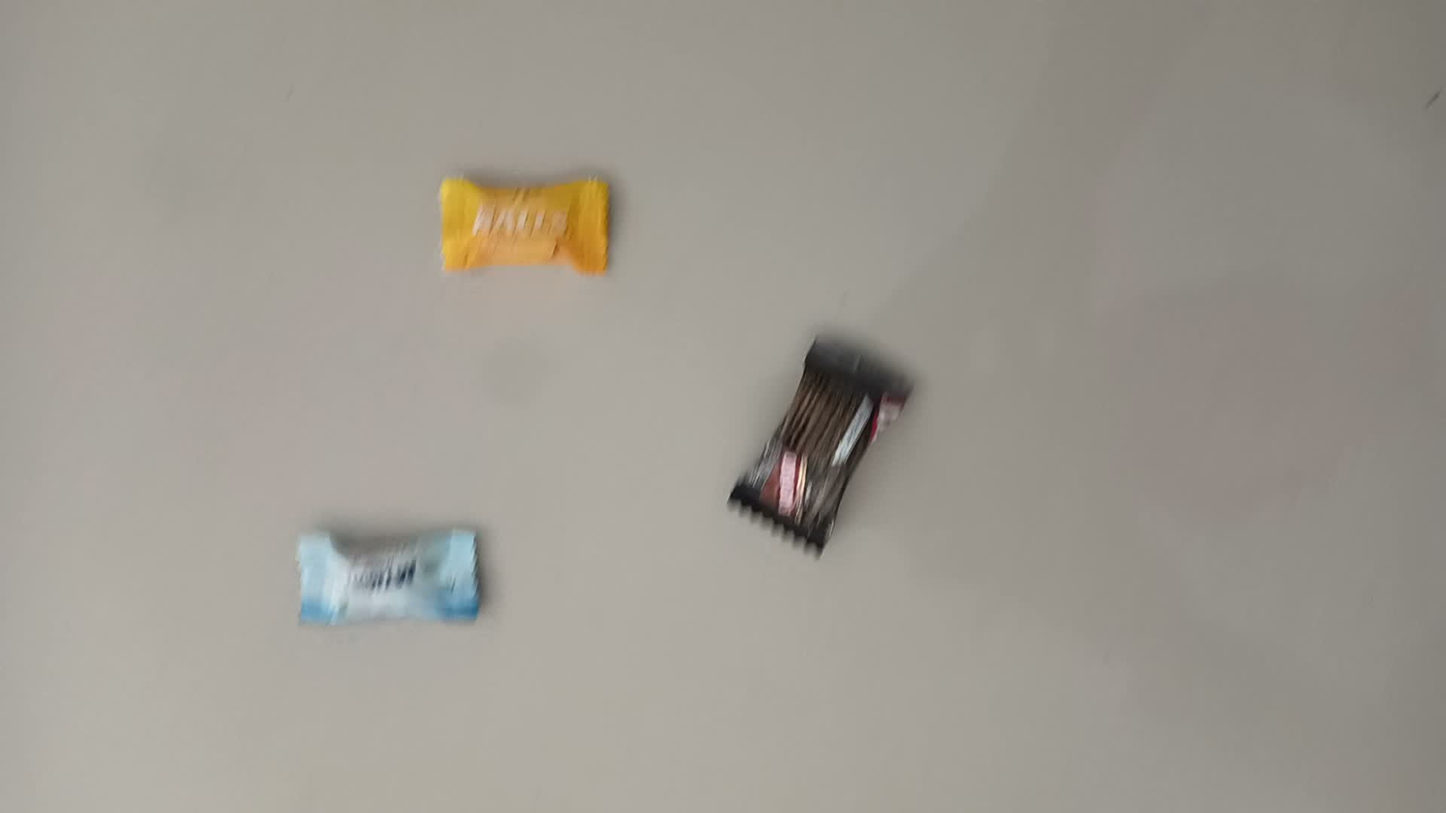HALLS: (437, 176, 624, 273)
KOPIKO: (744, 367, 898, 549)
MYM: (311, 533, 493, 631)
